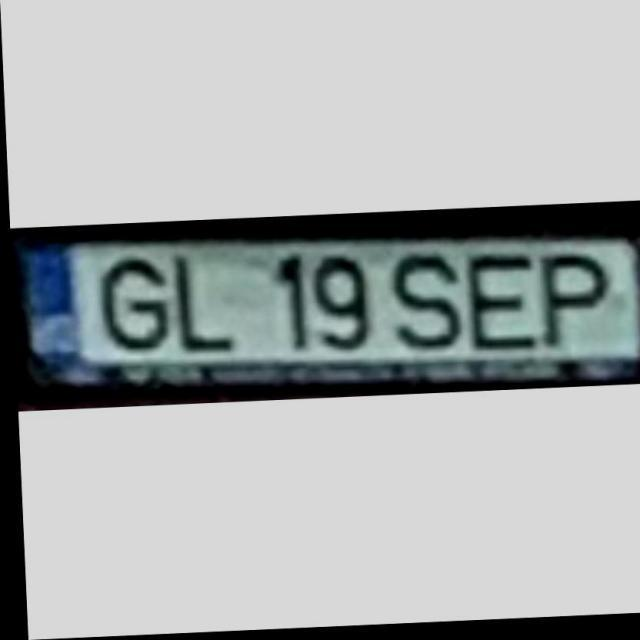license-plates: (20, 238, 640, 386)
